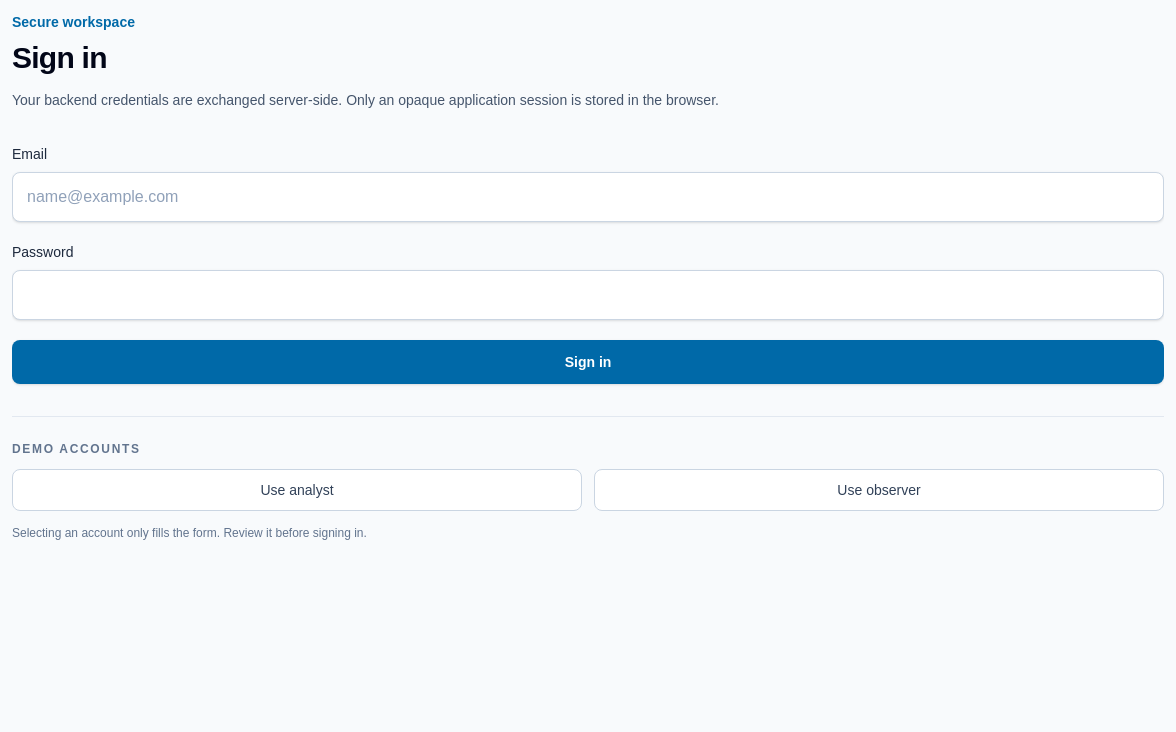
Test: SignInForm › shows the normalized rate-limit retry timing
In the field labelled "Email": (588, 197) [12,172,1164,222], type "user@example.test"
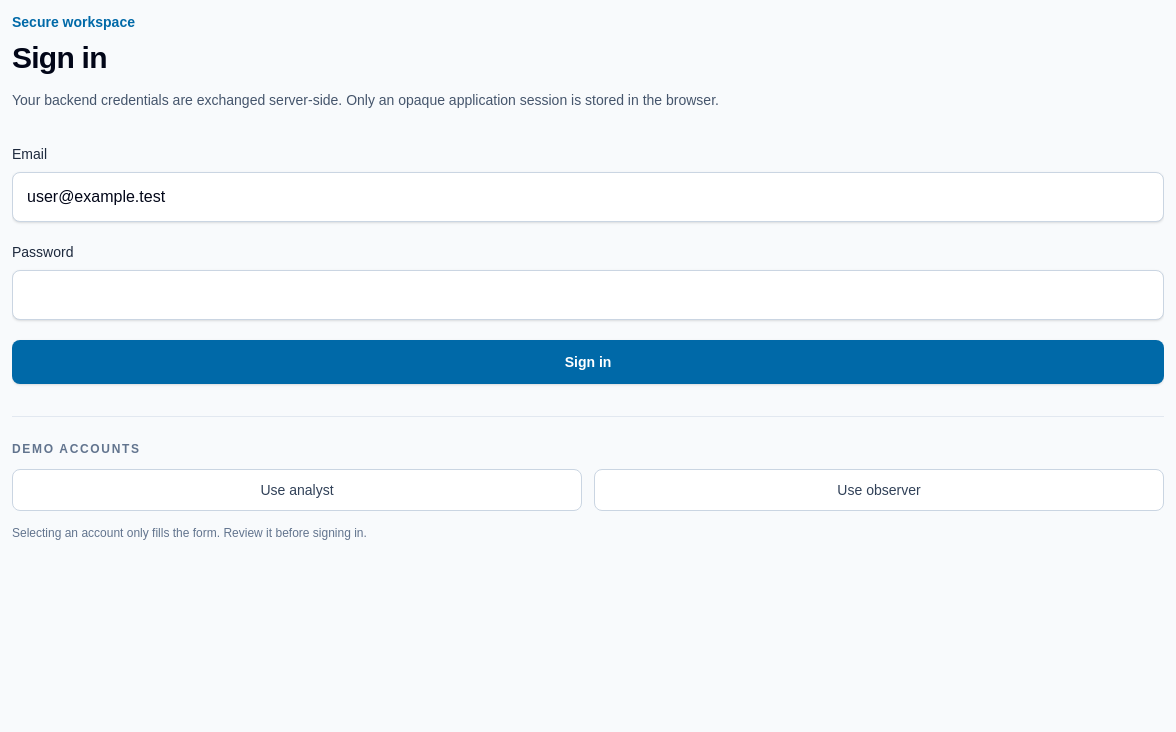
In the password field labelled "Password": (588, 295) [12,270,1164,320], type "wrong-password"
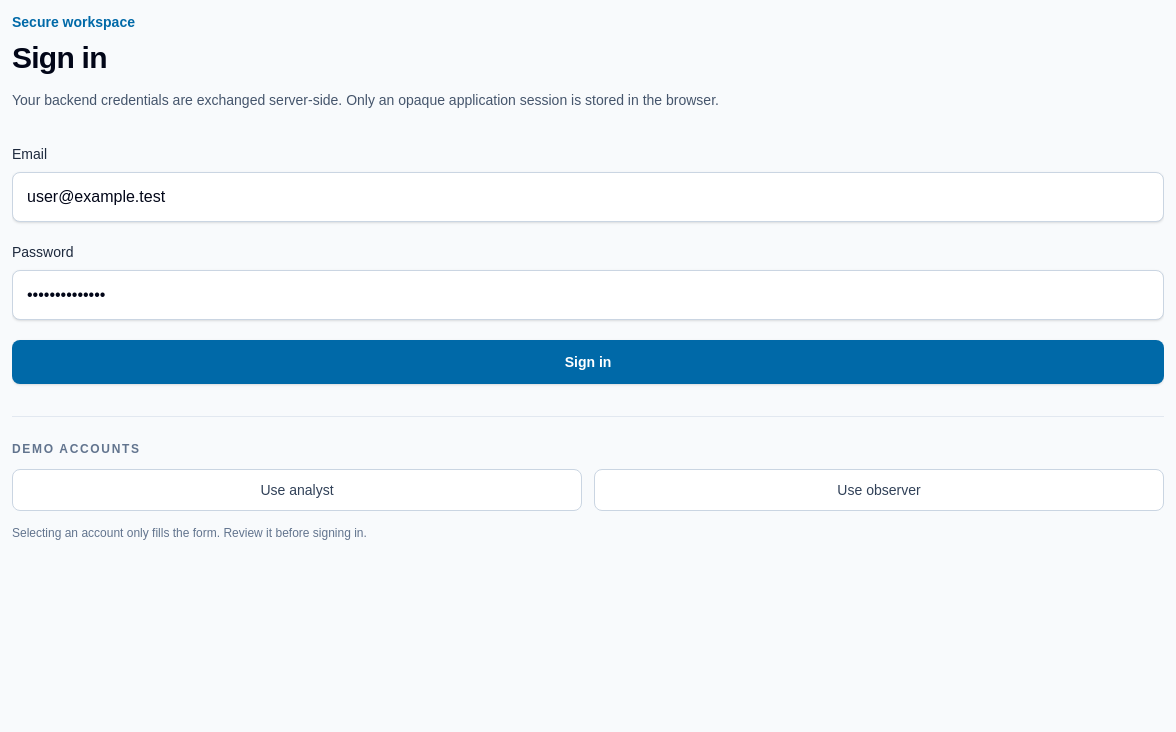
Click the button "Sign in": (588, 362) [12,340,1164,384]
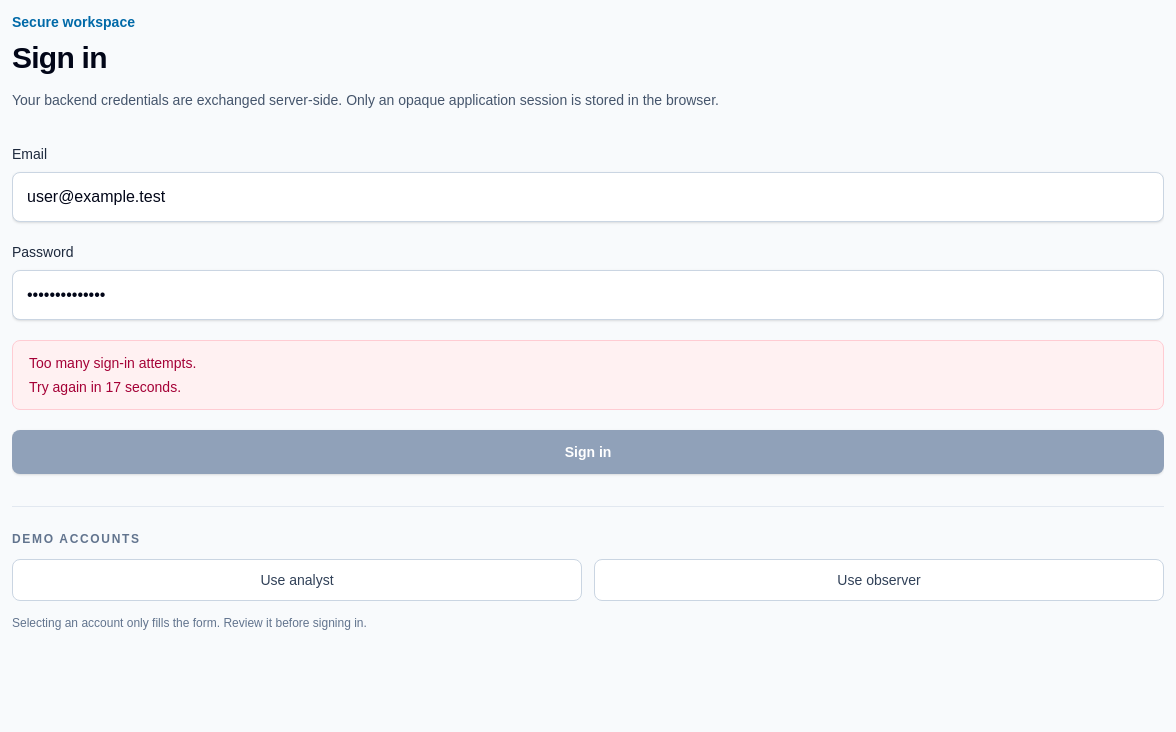
Now the message shows "Too many sign-in attempts.", box [29,355,196,371]
Now the message shows "Try again in 17 seconds.", box [12,340,1164,410]
Now the button "Sign in" is disabled, box [12,430,1164,474]
